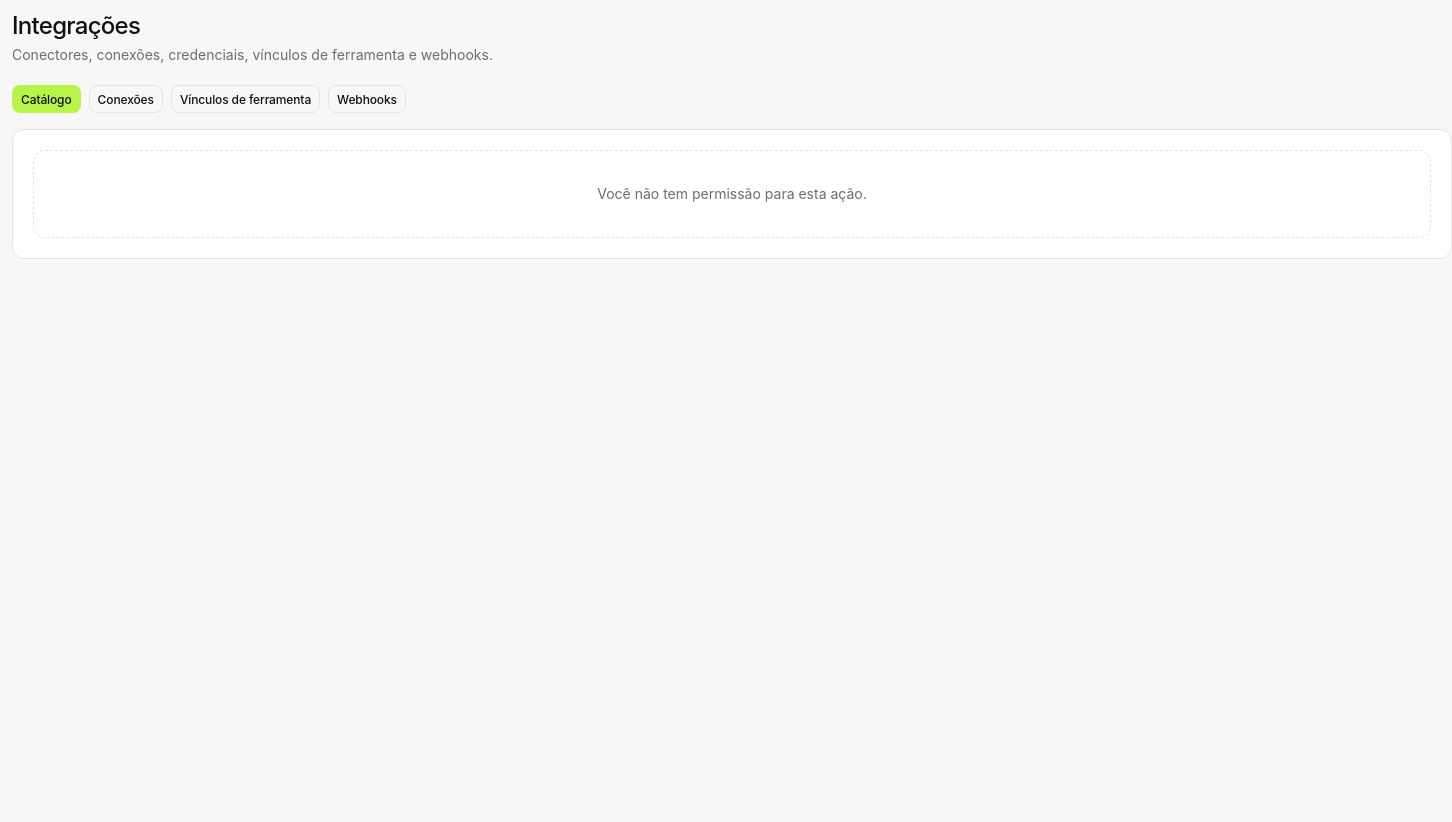
Test: IntegrationsPage — conexões › mostra estado de erro com retry
The image size is (1452, 822).
Click the tab "Conexões": (126, 99) x1=89 y1=85 x2=163 y2=113
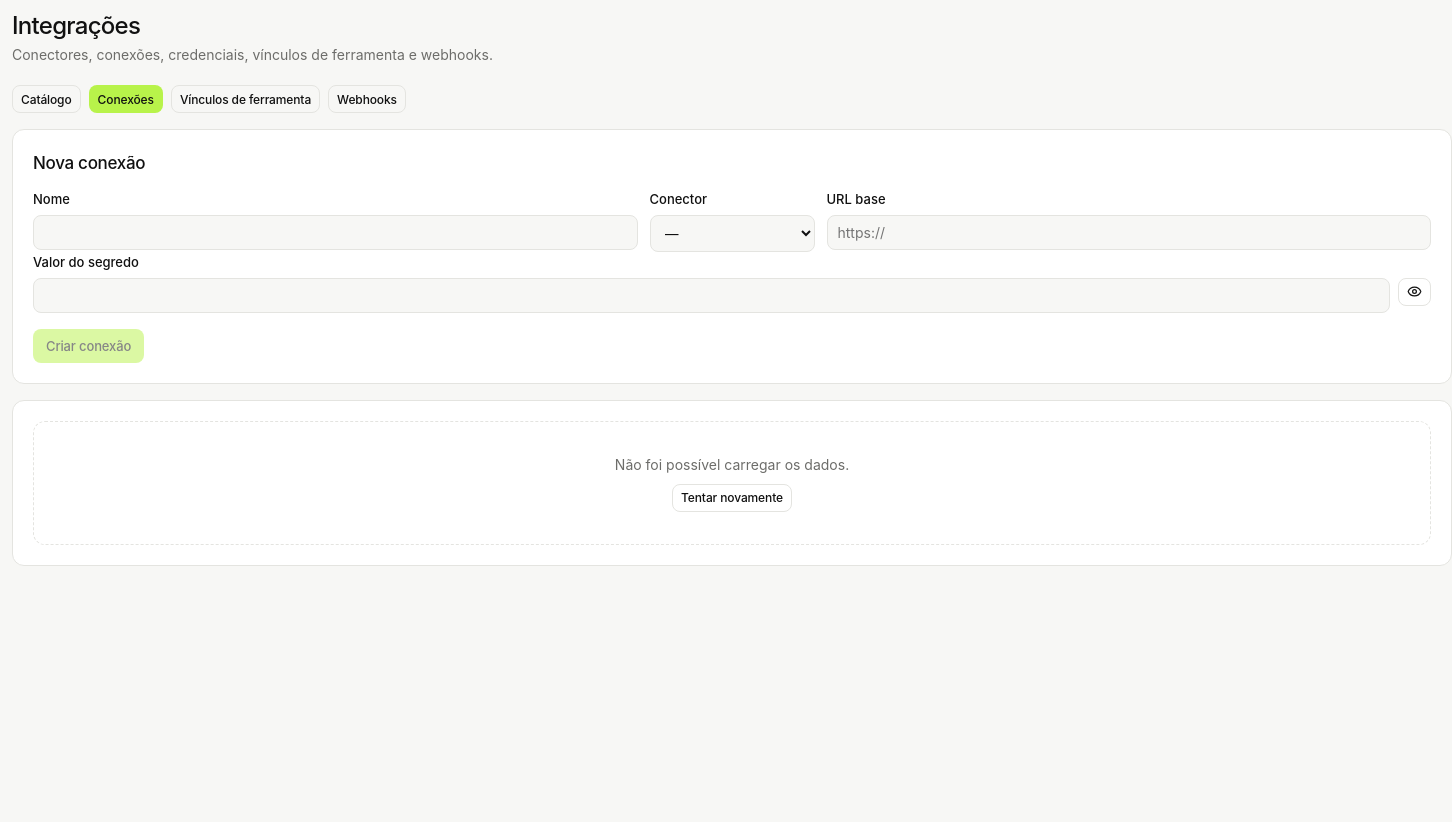
Now the message "Não foi possível carregar os dados. Tentar novamente" is shown, box x1=33 y1=421 x2=1431 y2=545
Now the button "Tentar novamente" is shown, box x1=672 y1=484 x2=792 y2=512
